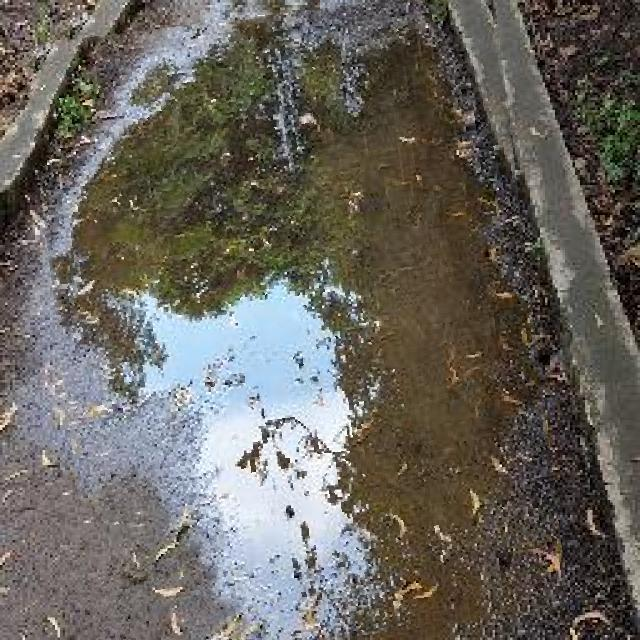puddle: (42, 1, 552, 640)
